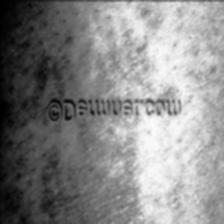Toxin: (32, 2, 176, 94), (36, 129, 152, 224)
